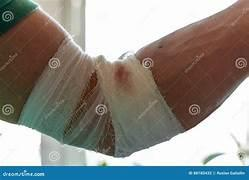Bandage: (19, 39, 183, 156), (97, 56, 182, 156), (19, 39, 94, 141), (0, 0, 37, 34)
